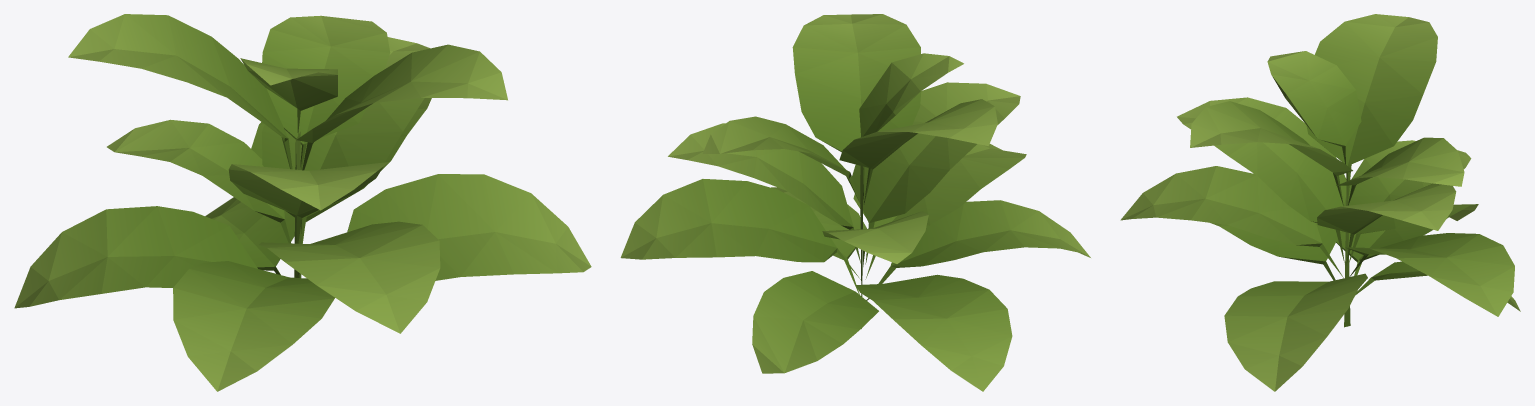
The model's file is Plant_02.fbx.
3 renders of one model, left to right at view 1: azimuth 30°, elevation 25°; view 2: azimuth 150°, elevation 25°; view 3: azimuth 270°, elevation 25°, orthographic. The views are drawn at different scales.
Parts seen in each view (by area): view 1: Plant_02; view 2: Plant_02; view 3: Plant_02.
Boxes of the visible parts, x1=… form: Plant_02: x1=14, y1=14, x2=591, y2=391; Plant_02: x1=620, y1=14, x2=1090, y2=391; Plant_02: x1=1120, y1=14, x2=1520, y2=391.
Size of the model in its own units: 1.06 by 0.6634 by 0.9812.
